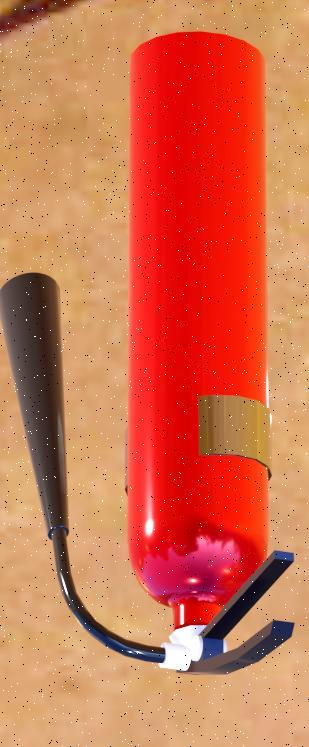Fire Extinguisher: (6, 18, 296, 686)
